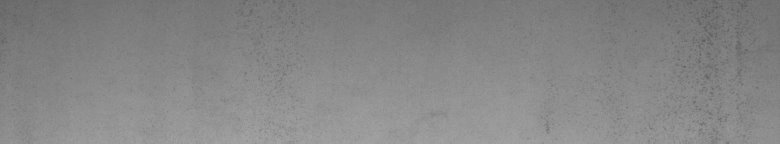ib: (686, 16, 748, 134)
